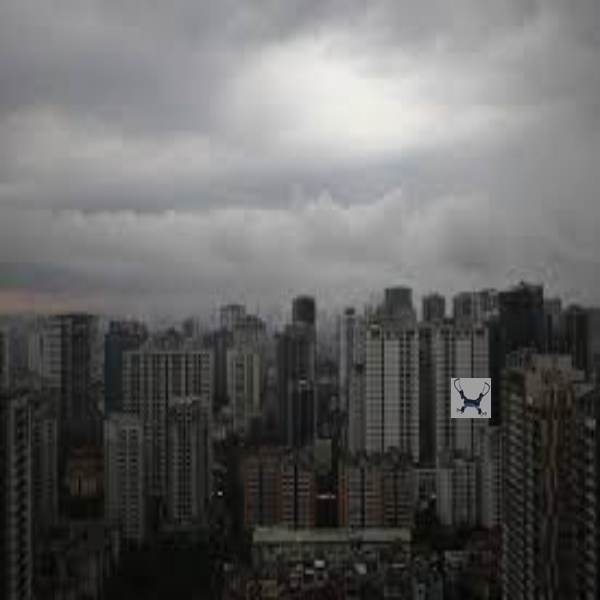drone: (451, 374, 489, 418)
